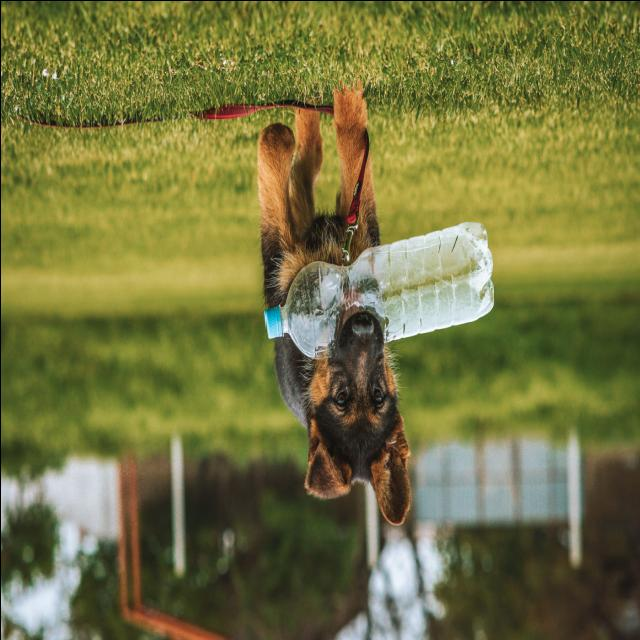bottle: (265, 222, 493, 357)
